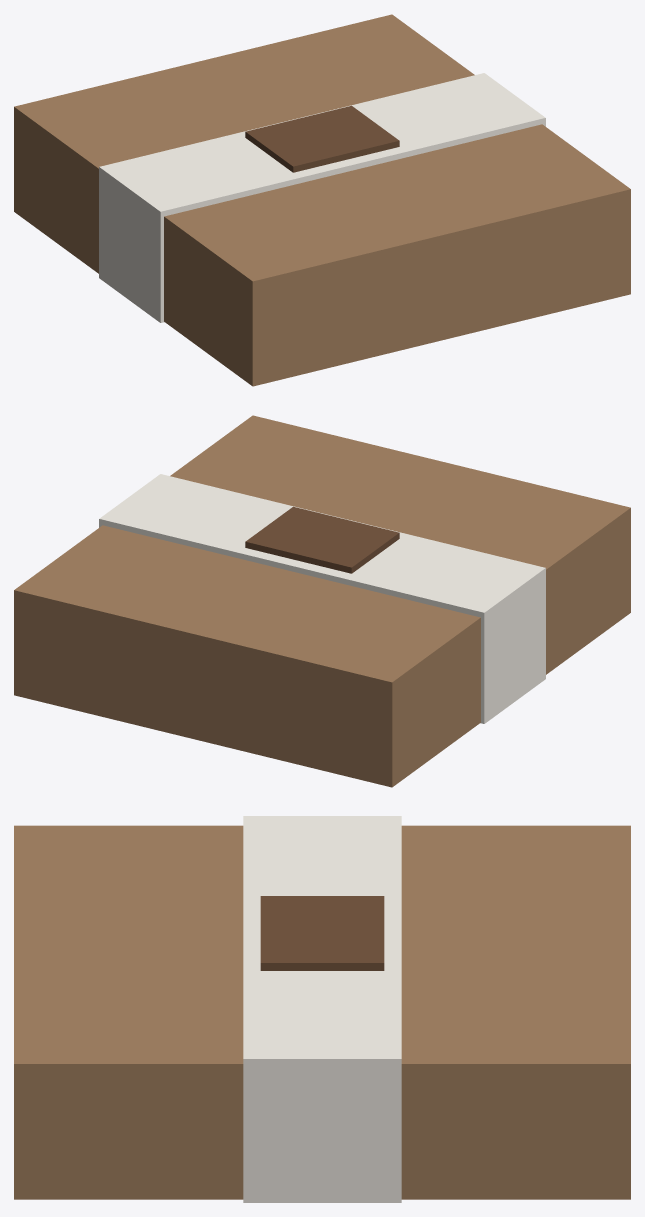
File: SV_MP_SKU_06_v01_lod2.glb
3 views of the same model, one above another, from view 1: azimuth 30°, elevation 25°; view 2: azimuth 150°, elevation 25°; view 3: azimuth 270°, elevation 25° (orthographic). The views are drawn at different scales.
Parts seen in each view (by area): view 1: mproto_SV_MP_SKU_06_v01; view 2: mproto_SV_MP_SKU_06_v01; view 3: mproto_SV_MP_SKU_06_v01.
Boxes of the visible parts, x1,y1,x2,y2 form: mproto_SV_MP_SKU_06_v01: (14,14,630,386); mproto_SV_MP_SKU_06_v01: (14,415,630,787); mproto_SV_MP_SKU_06_v01: (14,816,630,1202).
Size of the model in its own units: 0.0652 by 0.019 by 0.07.
